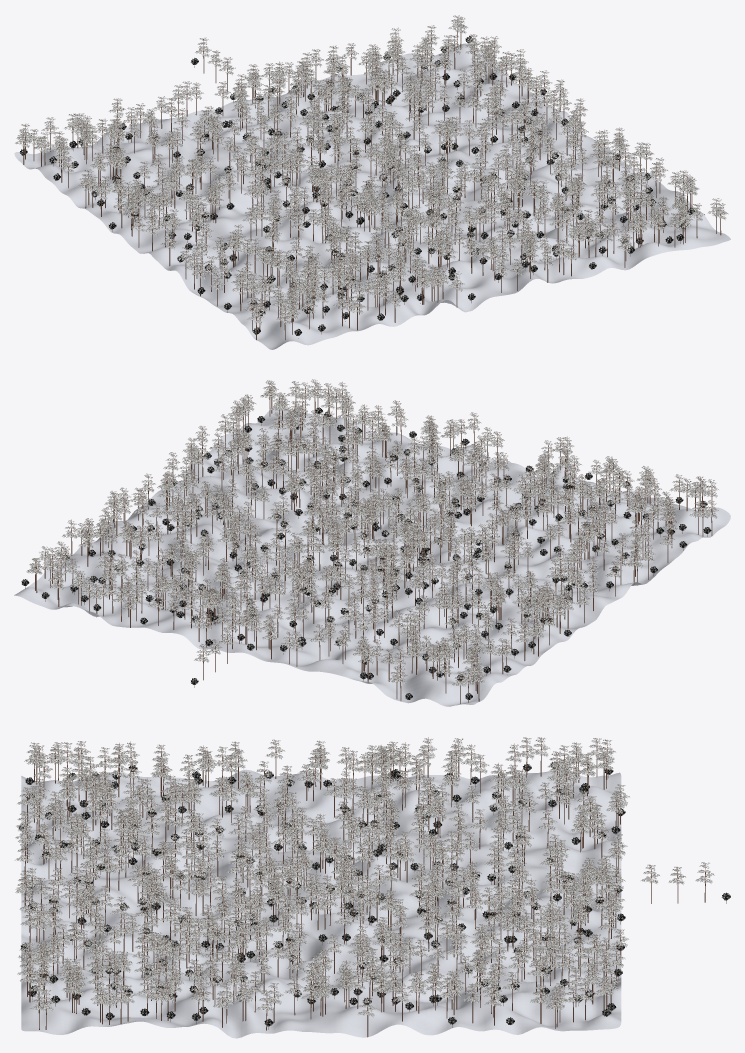
Rendered from Plane_Forest_V_0_1.fbx.
The picture shows the model from 3 angles, top to bottom: view 1: azimuth 30°, elevation 25°; view 2: azimuth 150°, elevation 25°; view 3: azimuth 270°, elevation 25°; orthographic projection. The views are drawn at different scales.
Visible parts, largest first — view 1: Plane; view 2: Plane; view 3: Plane.
Part boxes in pixels (x1=…): Plane: x1=14, y1=43, x2=730, y2=349; Plane: x1=14, y1=407, x2=730, y2=706; Plane: x1=21, y1=769, x2=621, y2=1038.
Bounding box in the file's own units: 4139 × 458 × 4779.
